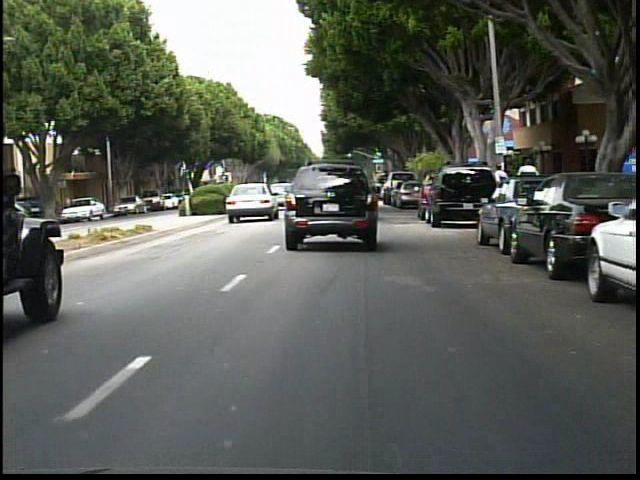person: (513, 155, 540, 217), (488, 162, 511, 212), (60, 190, 78, 222)
